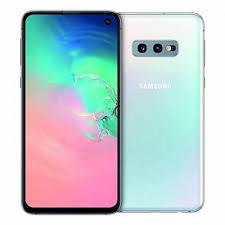samsung: (16, 7, 122, 215), (116, 8, 209, 214)
